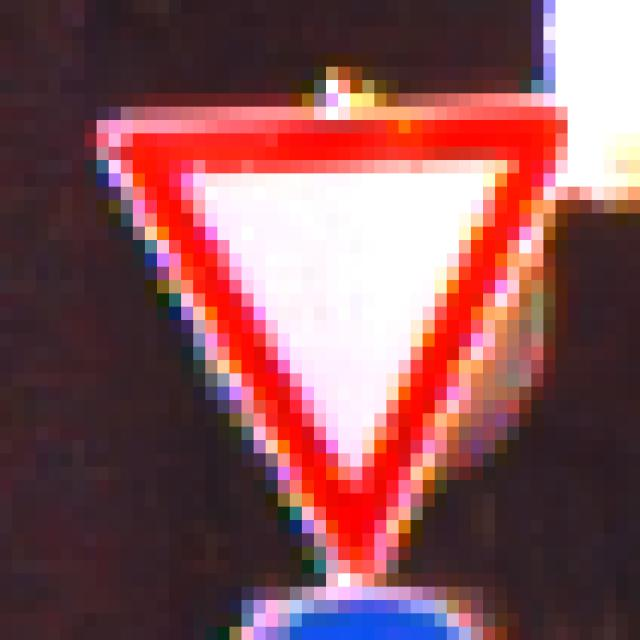Give Way: (74, 81, 581, 574)
